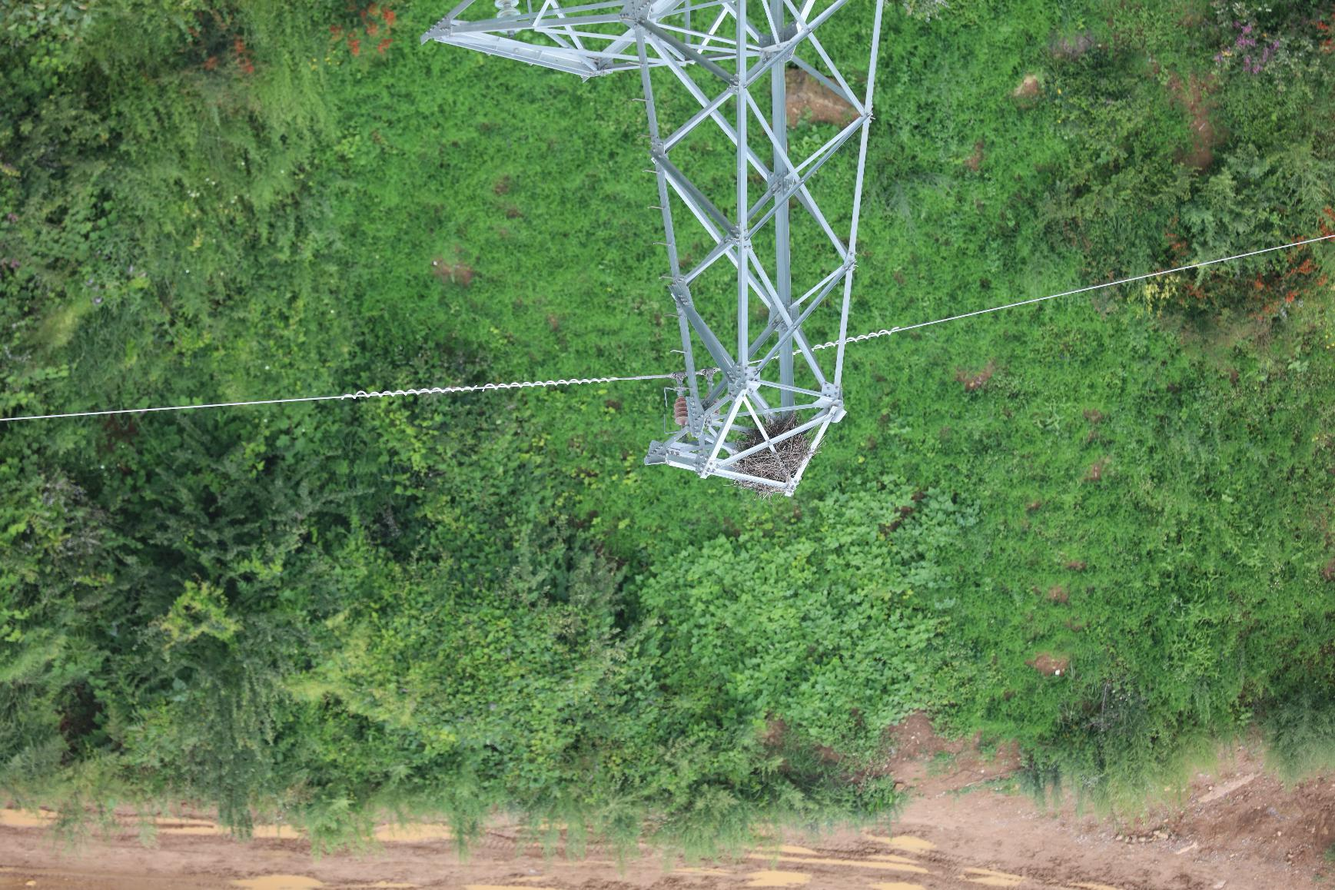nest: (728, 410, 811, 497)
